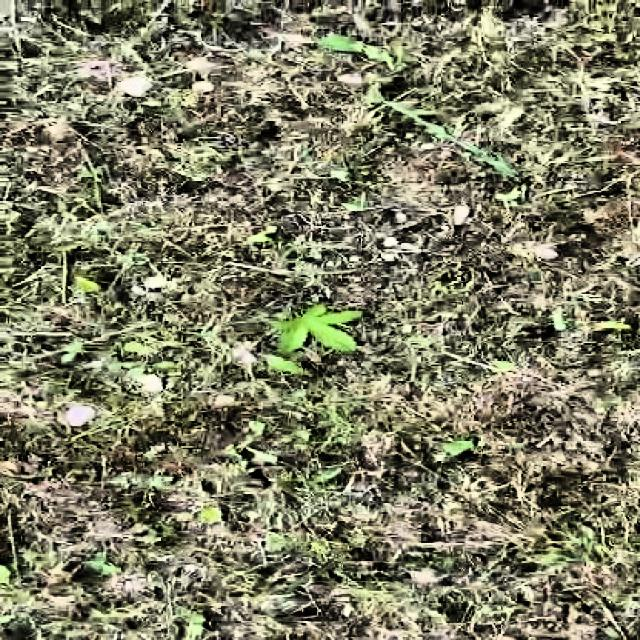Weeds: (274, 304, 363, 356)
